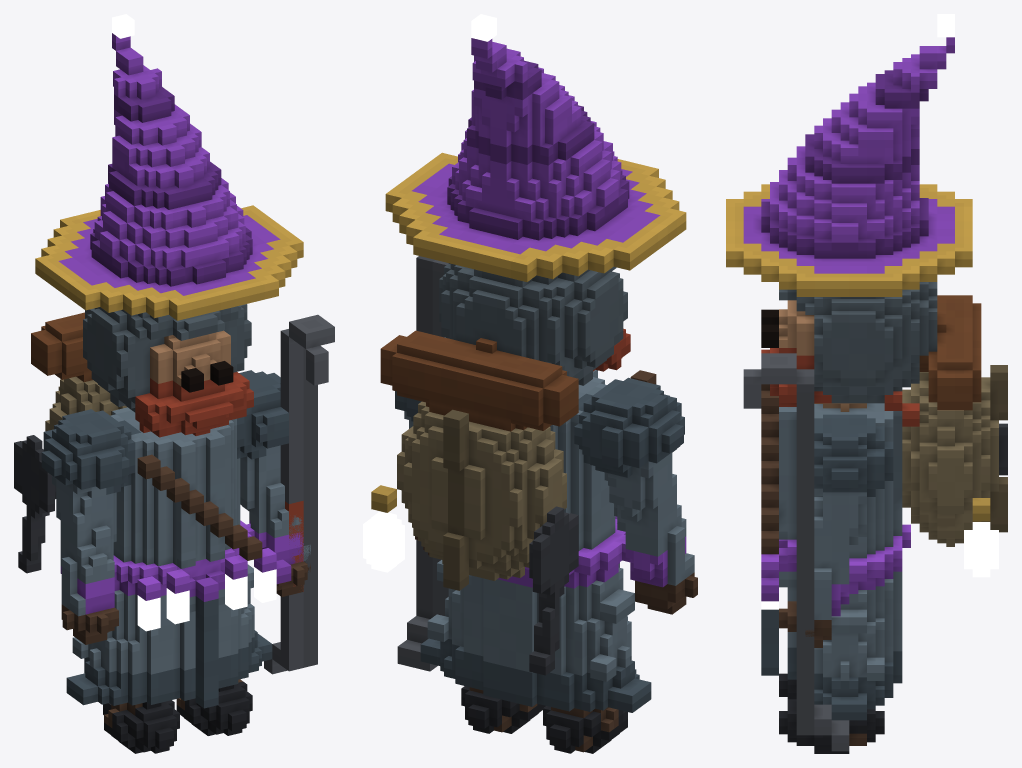
File: u_receleur__oracle.glb
The picture shows the model from 3 angles, left to right: view 1: azimuth 30°, elevation 25°; view 2: azimuth 150°, elevation 25°; view 3: azimuth 270°, elevation 25°; orthographic projection. The views are drawn at different scales.
Parts seen in each view (by area): view 1: receleur_body, receleur_weapon, receleur_glow; view 2: receleur_body, receleur_weapon, receleur_glow; view 3: receleur_body, receleur_weapon, receleur_glow.
Part boxes in pixels (x1,y1,x2,y2): receleur_body: (14,33,310,753); receleur_weapon: (264,314,334,674); receleur_glow: (112,14,276,631); receleur_body: (371,38,697,753); receleur_weapon: (397,256,448,671); receleur_glow: (363,14,496,572); receleur_body: (726,37,1007,753); receleur_weapon: (743,353,849,751); receleur_glow: (761,14,998,609).
Bounding box in the file's own units: 0.85 × 2.22 × 0.8.
